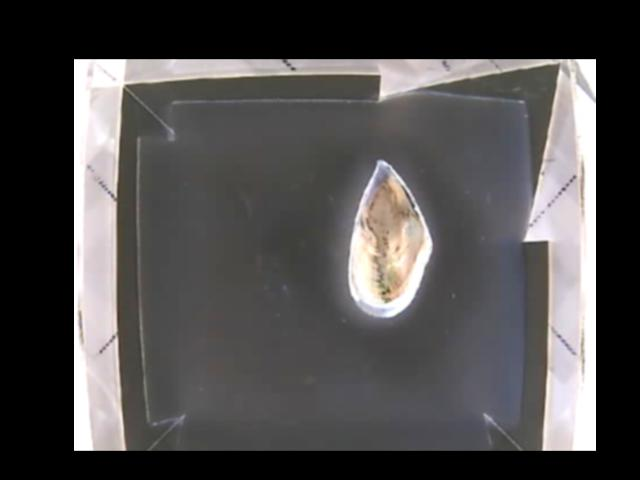Shell: (348, 157, 432, 317)
